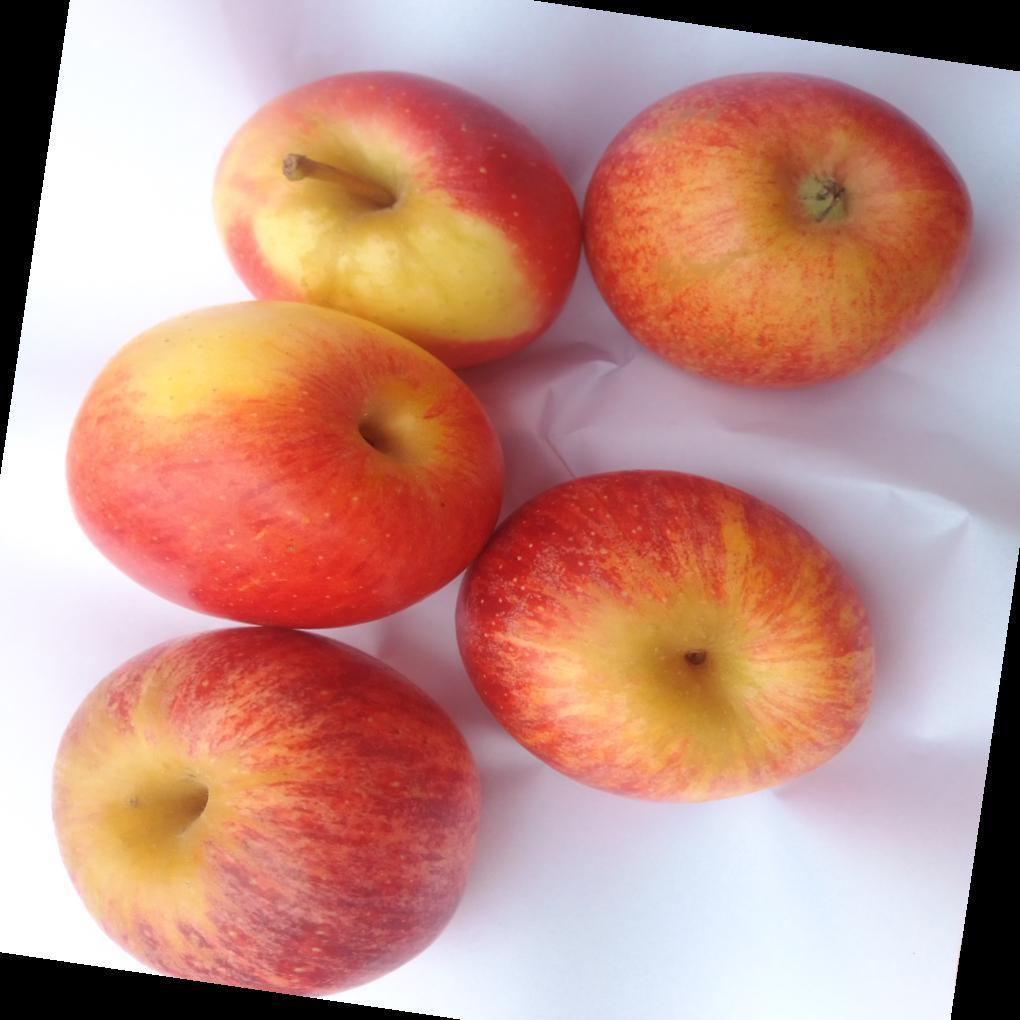FreshGuava: (51, 72, 972, 982)
